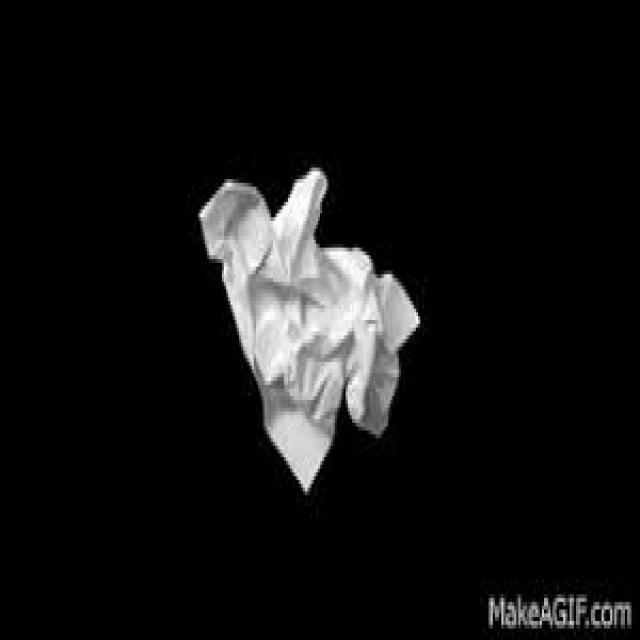PaperCardboard: (198, 167, 419, 487)
